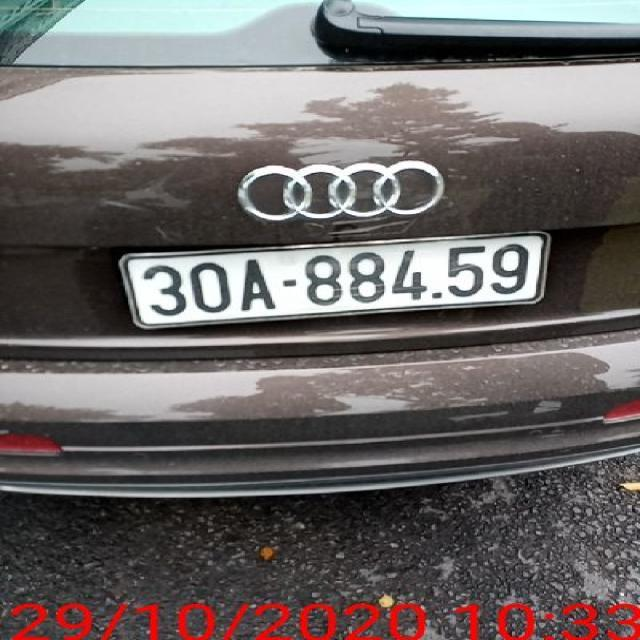bien_so_oto: (122, 230, 551, 328)
